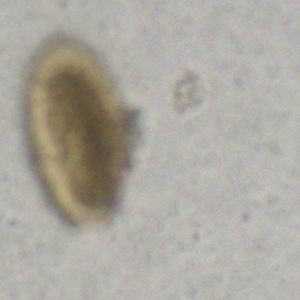Fasciola_hepatica_egg: (20, 29, 127, 230)
